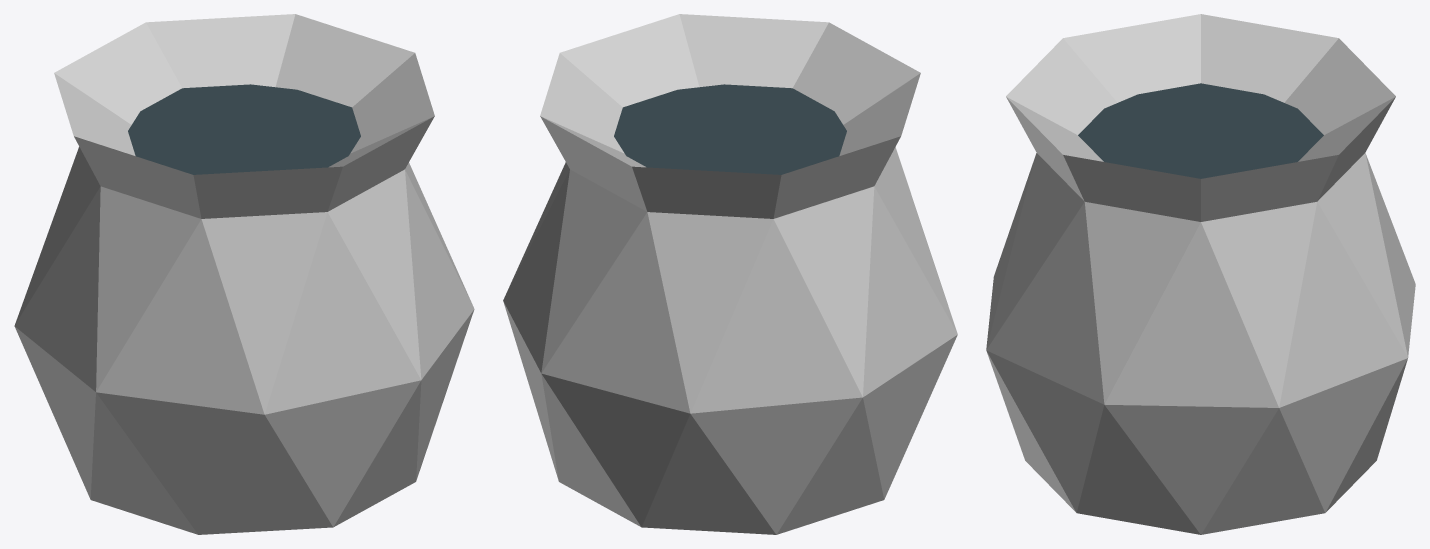
The model's file is CAULDRON_OC.OBJ.
3 renders of one model, left to right at view 1: azimuth 30°, elevation 25°; view 2: azimuth 150°, elevation 25°; view 3: azimuth 270°, elevation 25°, orthographic.
Visible parts, largest first — view 1: CAULDRON_OC; view 2: CAULDRON_OC; view 3: CAULDRON_OC.
Boxes of the visible parts, box(x1,y1,x2,y2) form: CAULDRON_OC: box(14, 14, 474, 534); CAULDRON_OC: box(503, 14, 957, 534); CAULDRON_OC: box(986, 14, 1415, 534).
Bounding box in the file's own units: 0.8551 × 0.8 × 0.8551.
